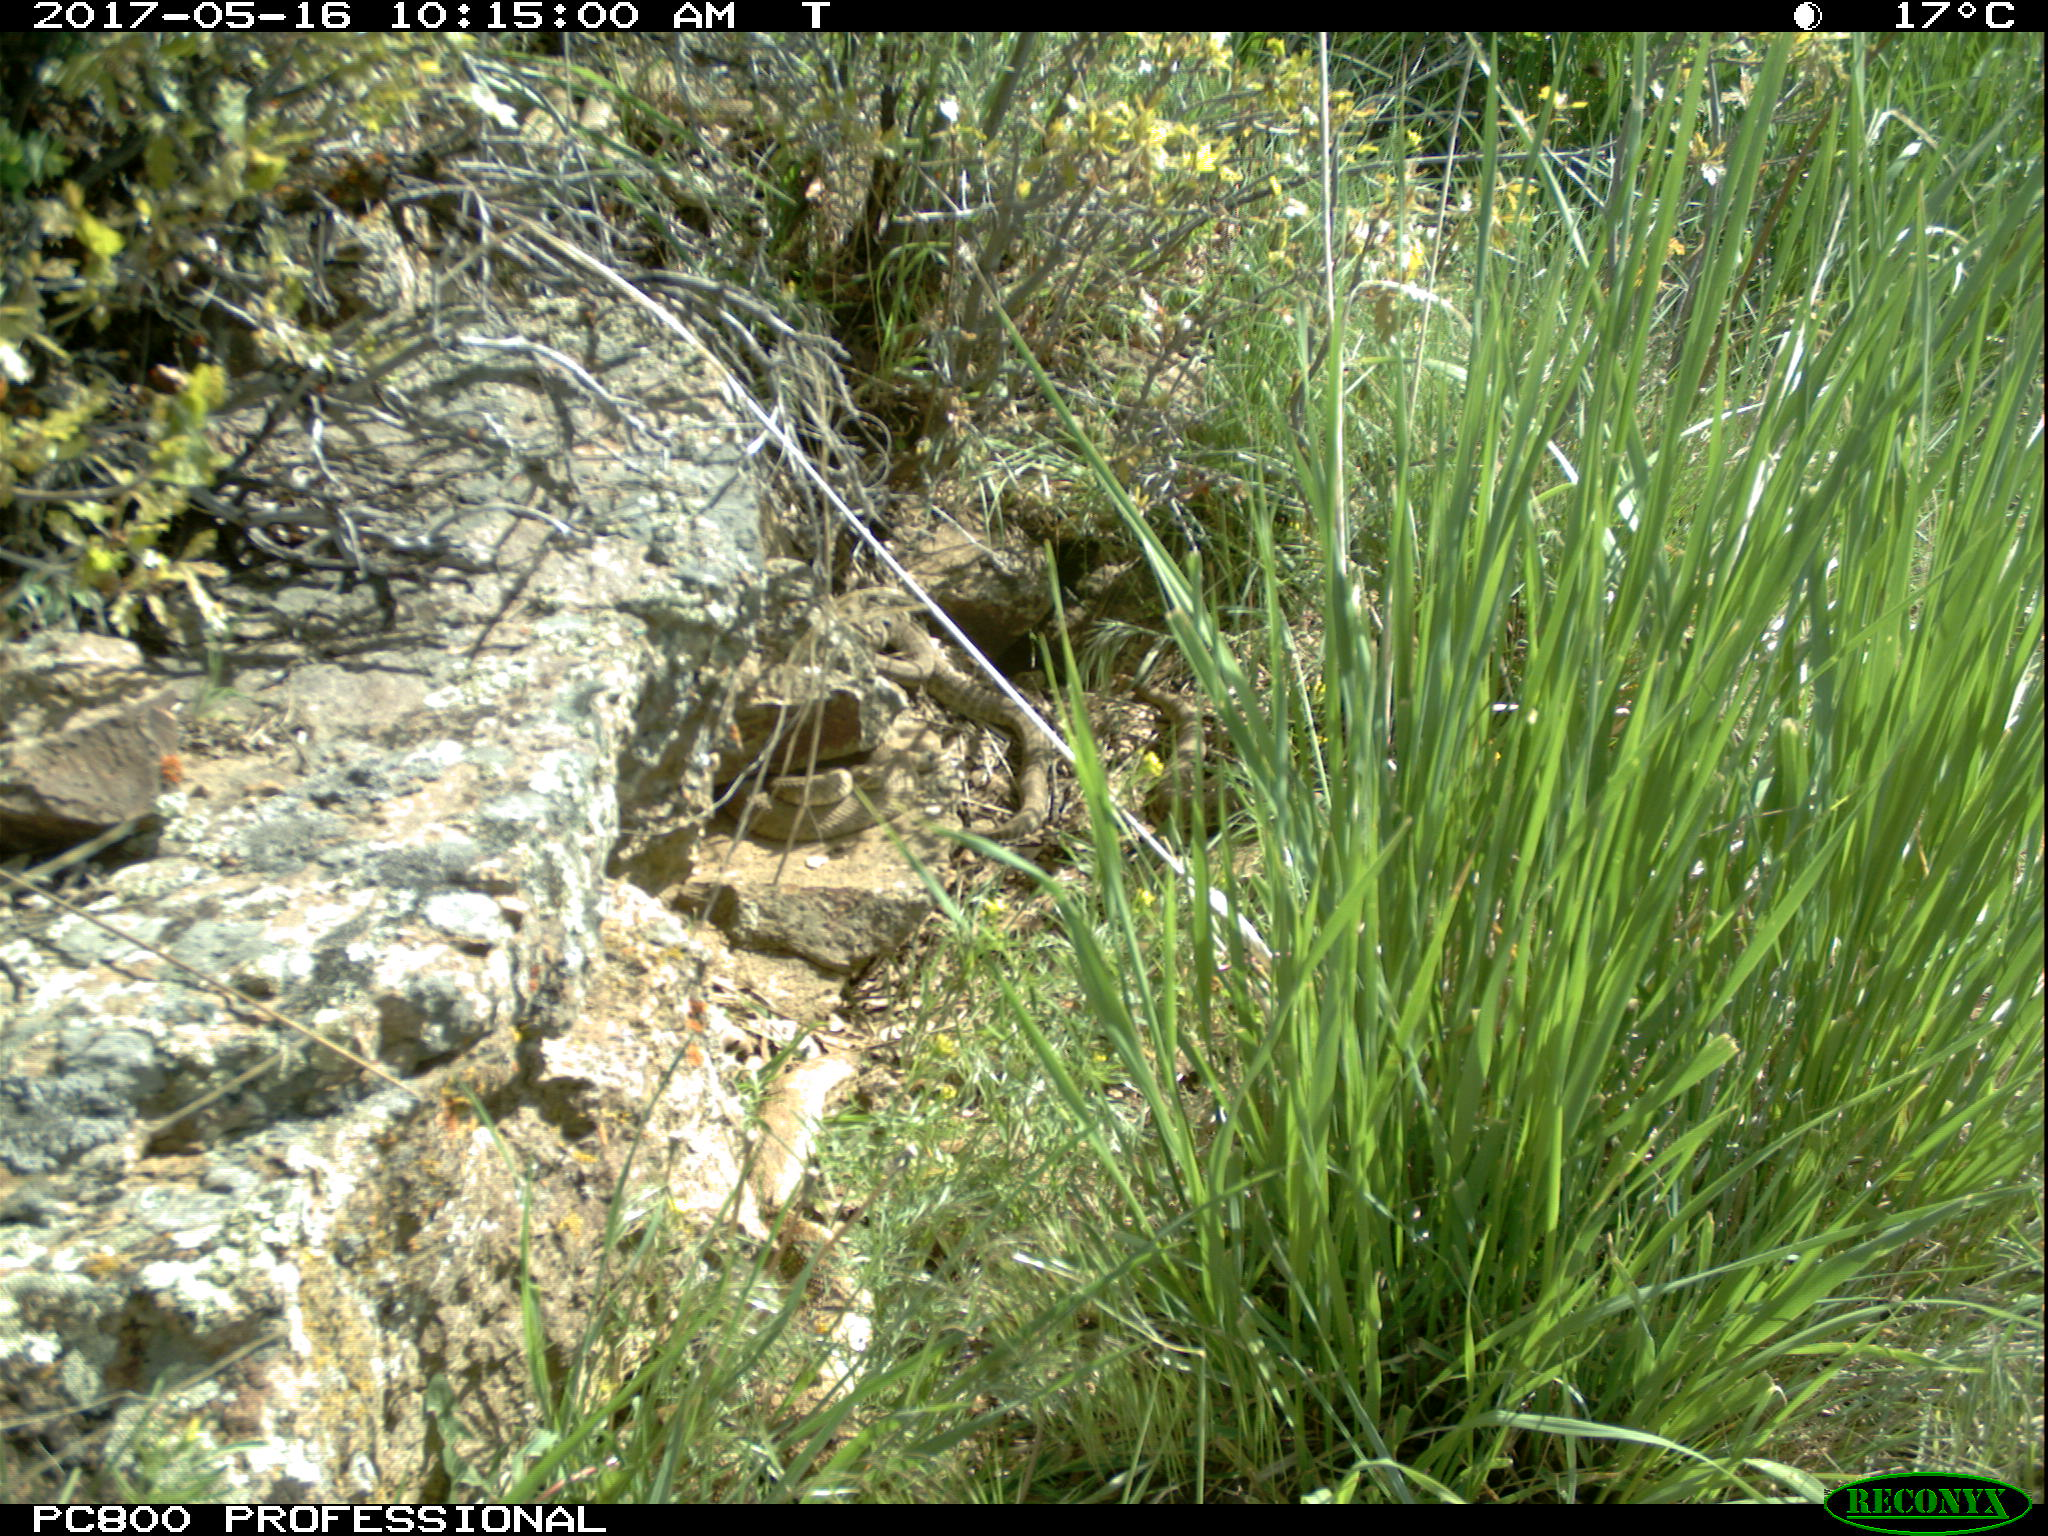snake: (747, 1034, 872, 1412), (734, 763, 935, 862), (963, 687, 1055, 842), (856, 624, 997, 721), (1130, 673, 1209, 815), (876, 707, 940, 799)
